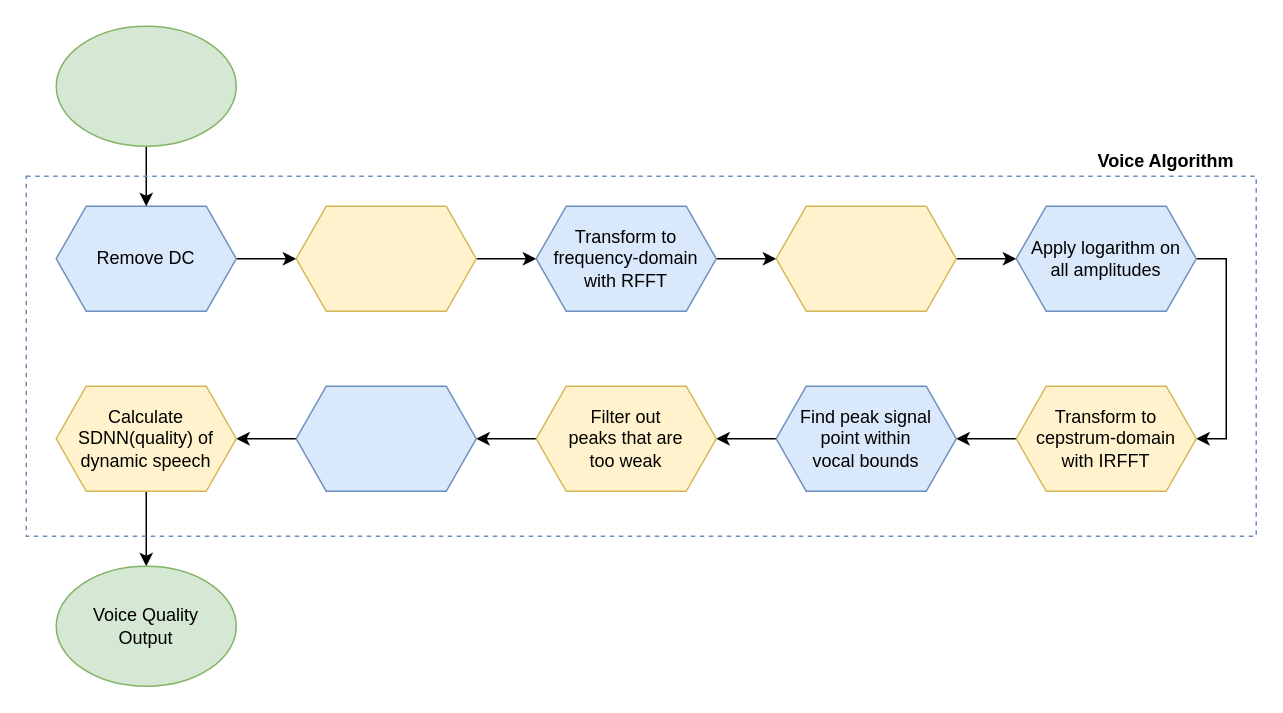
The diagram is 1283 pixels wide and 713 high, and some of its shapes have lost their labels. The centre of each missing label's shape, as x and y in pixels:
"Apply Hamming Window" belongs at point (385, 258).
"Audio Input" belongs at point (145, 85).
"Collect peaks in a double-ended queue" belongs at point (385, 438).
"Remove all phase-offsets" belongs at point (865, 258).
